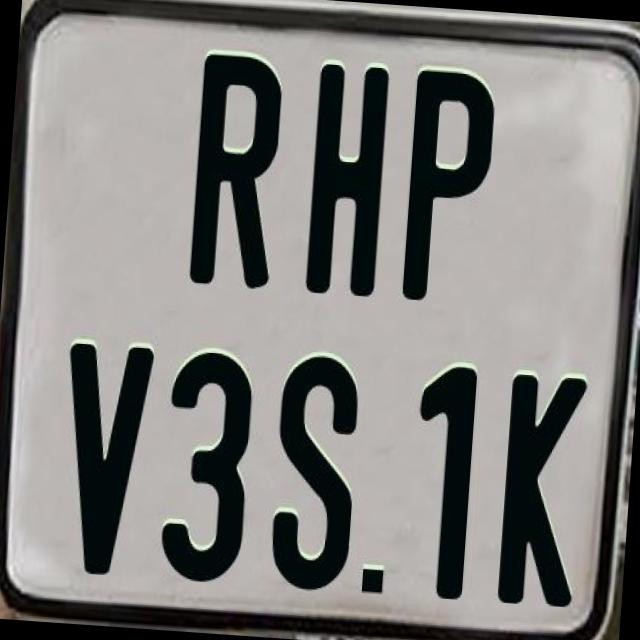1: (404, 360, 475, 596)
3: (157, 350, 257, 592)
H: (304, 58, 394, 292)
K: (492, 369, 586, 612)
P: (398, 68, 496, 312)
R: (189, 51, 292, 290)
S: (268, 348, 363, 590)
V: (52, 338, 156, 574)
